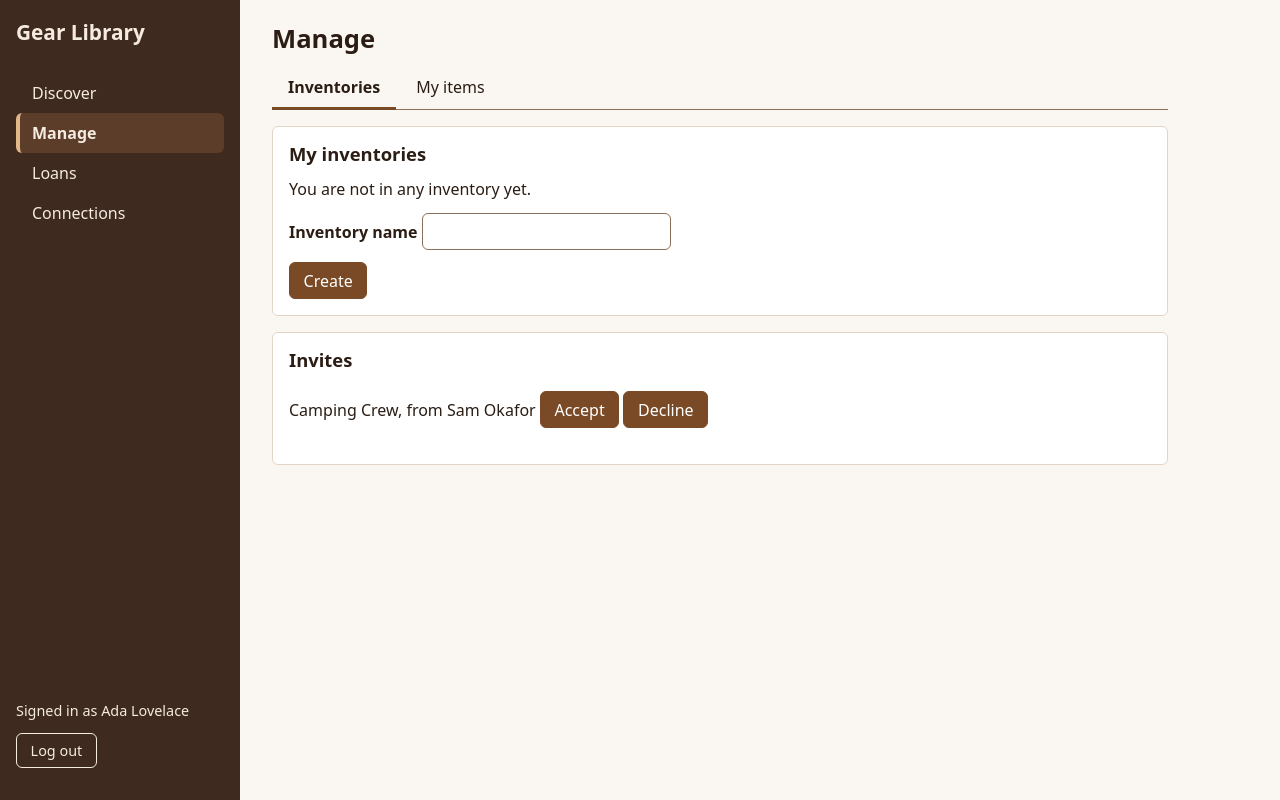
Test case: pending invites › declining removes the invite
The width and height of the screenshot is (1280, 800).
Click the button with aria-label "Decline invite to Camping Crew" at (666,410), box top-left (624, 391), bottom-right (708, 428)
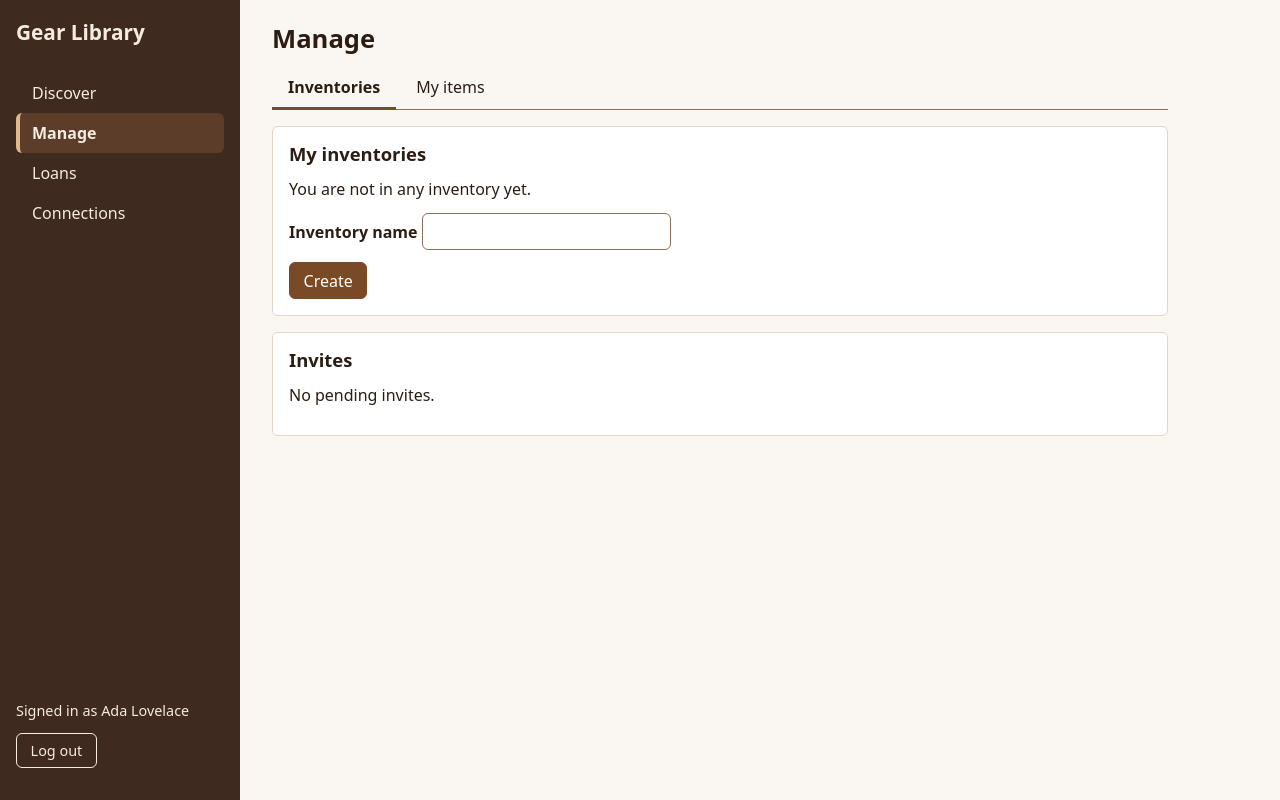
Expected: the text "No pending invites." is shown, top-left (289, 384), bottom-right (435, 406)
